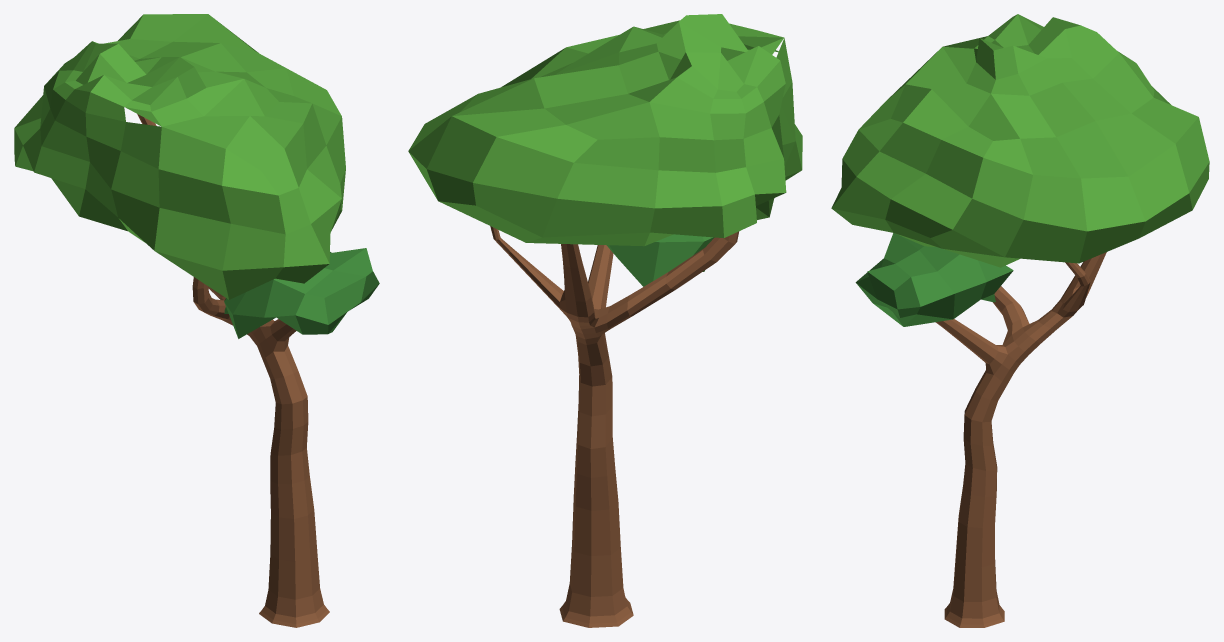
Rendered from leafy-tree.glb.
The picture shows the model from 3 angles, left to right: view 1: azimuth 30°, elevation 25°; view 2: azimuth 150°, elevation 25°; view 3: azimuth 270°, elevation 25°; orthographic projection. The views are drawn at different scales.
Parts seen in each view (by area): view 1: CommonTree_4; view 2: CommonTree_4; view 3: CommonTree_4.
Part boxes in pixels (x1=…): CommonTree_4: x1=14, y1=14, x2=379, y2=627; CommonTree_4: x1=408, y1=14, x2=802, y2=627; CommonTree_4: x1=831, y1=14, x2=1209, y2=627.
Size of the model in its own units: 3.16 by 5.57 by 3.6.
